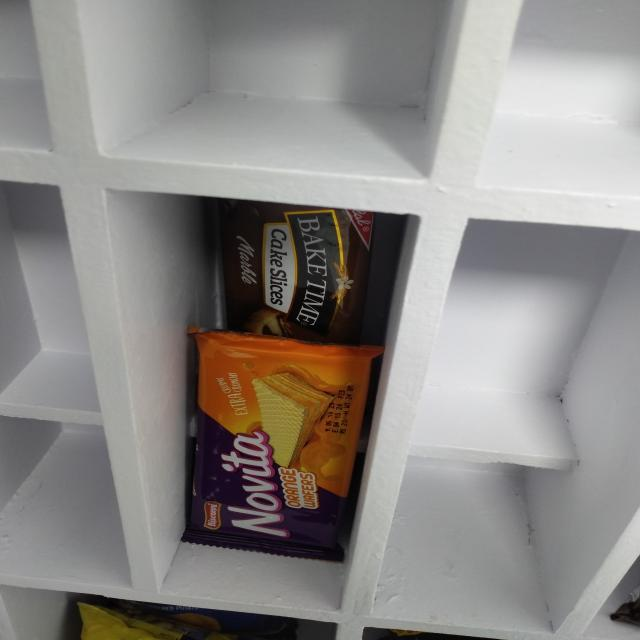Plastic: (186, 336, 372, 554), (202, 204, 387, 334)
